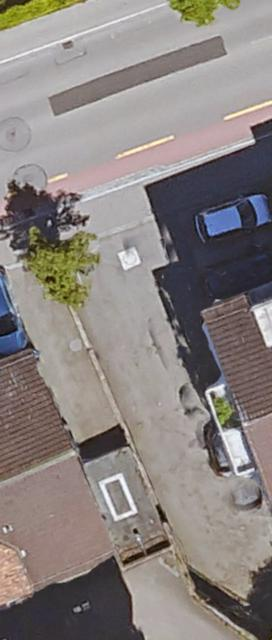tree: (25, 229, 93, 306), (170, 0, 239, 28)
